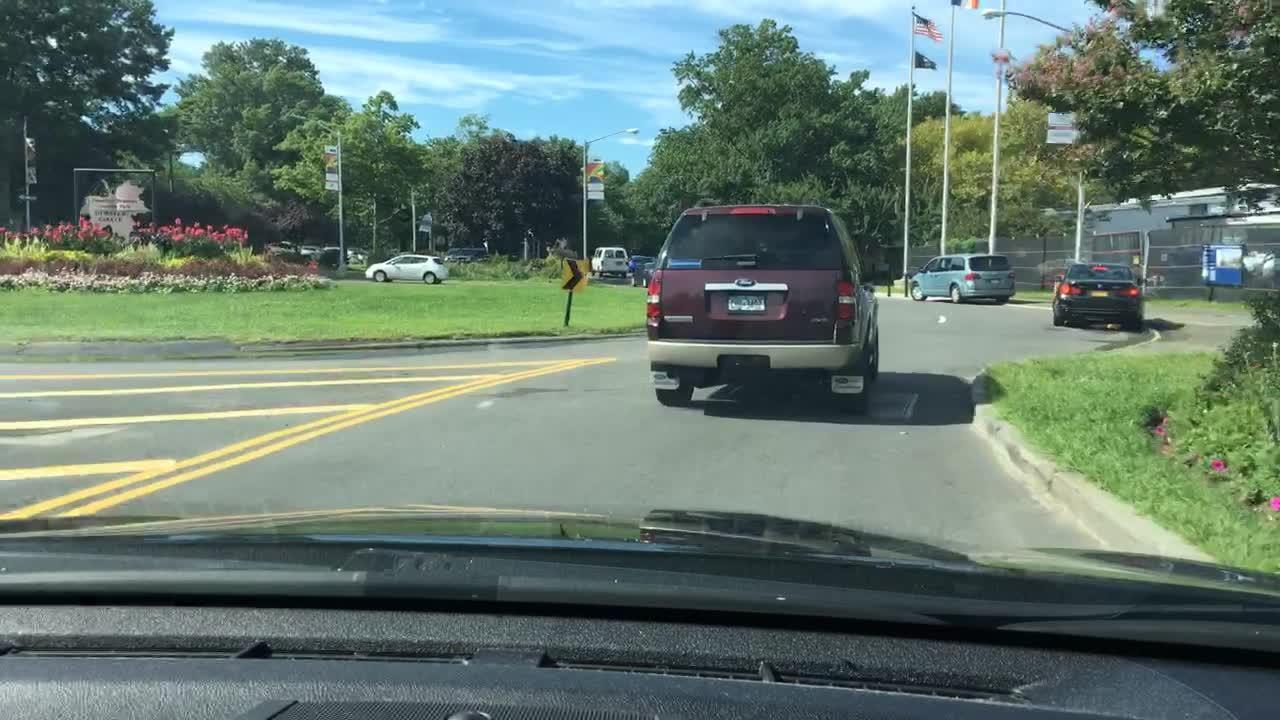ford: (729, 275, 757, 292)
